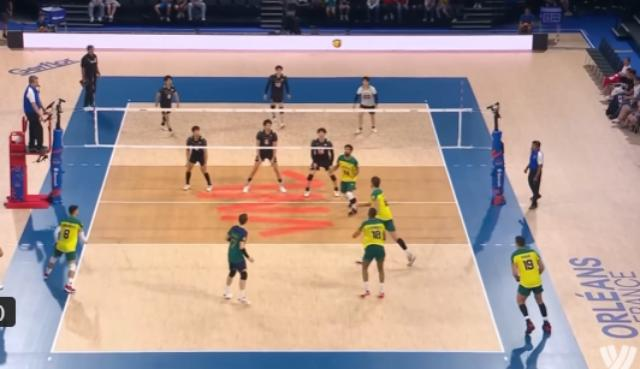Levantador: (326, 140, 370, 214), (147, 66, 187, 132)
Libero: (209, 203, 269, 316), (345, 70, 393, 144)
bola: (324, 27, 350, 58)
